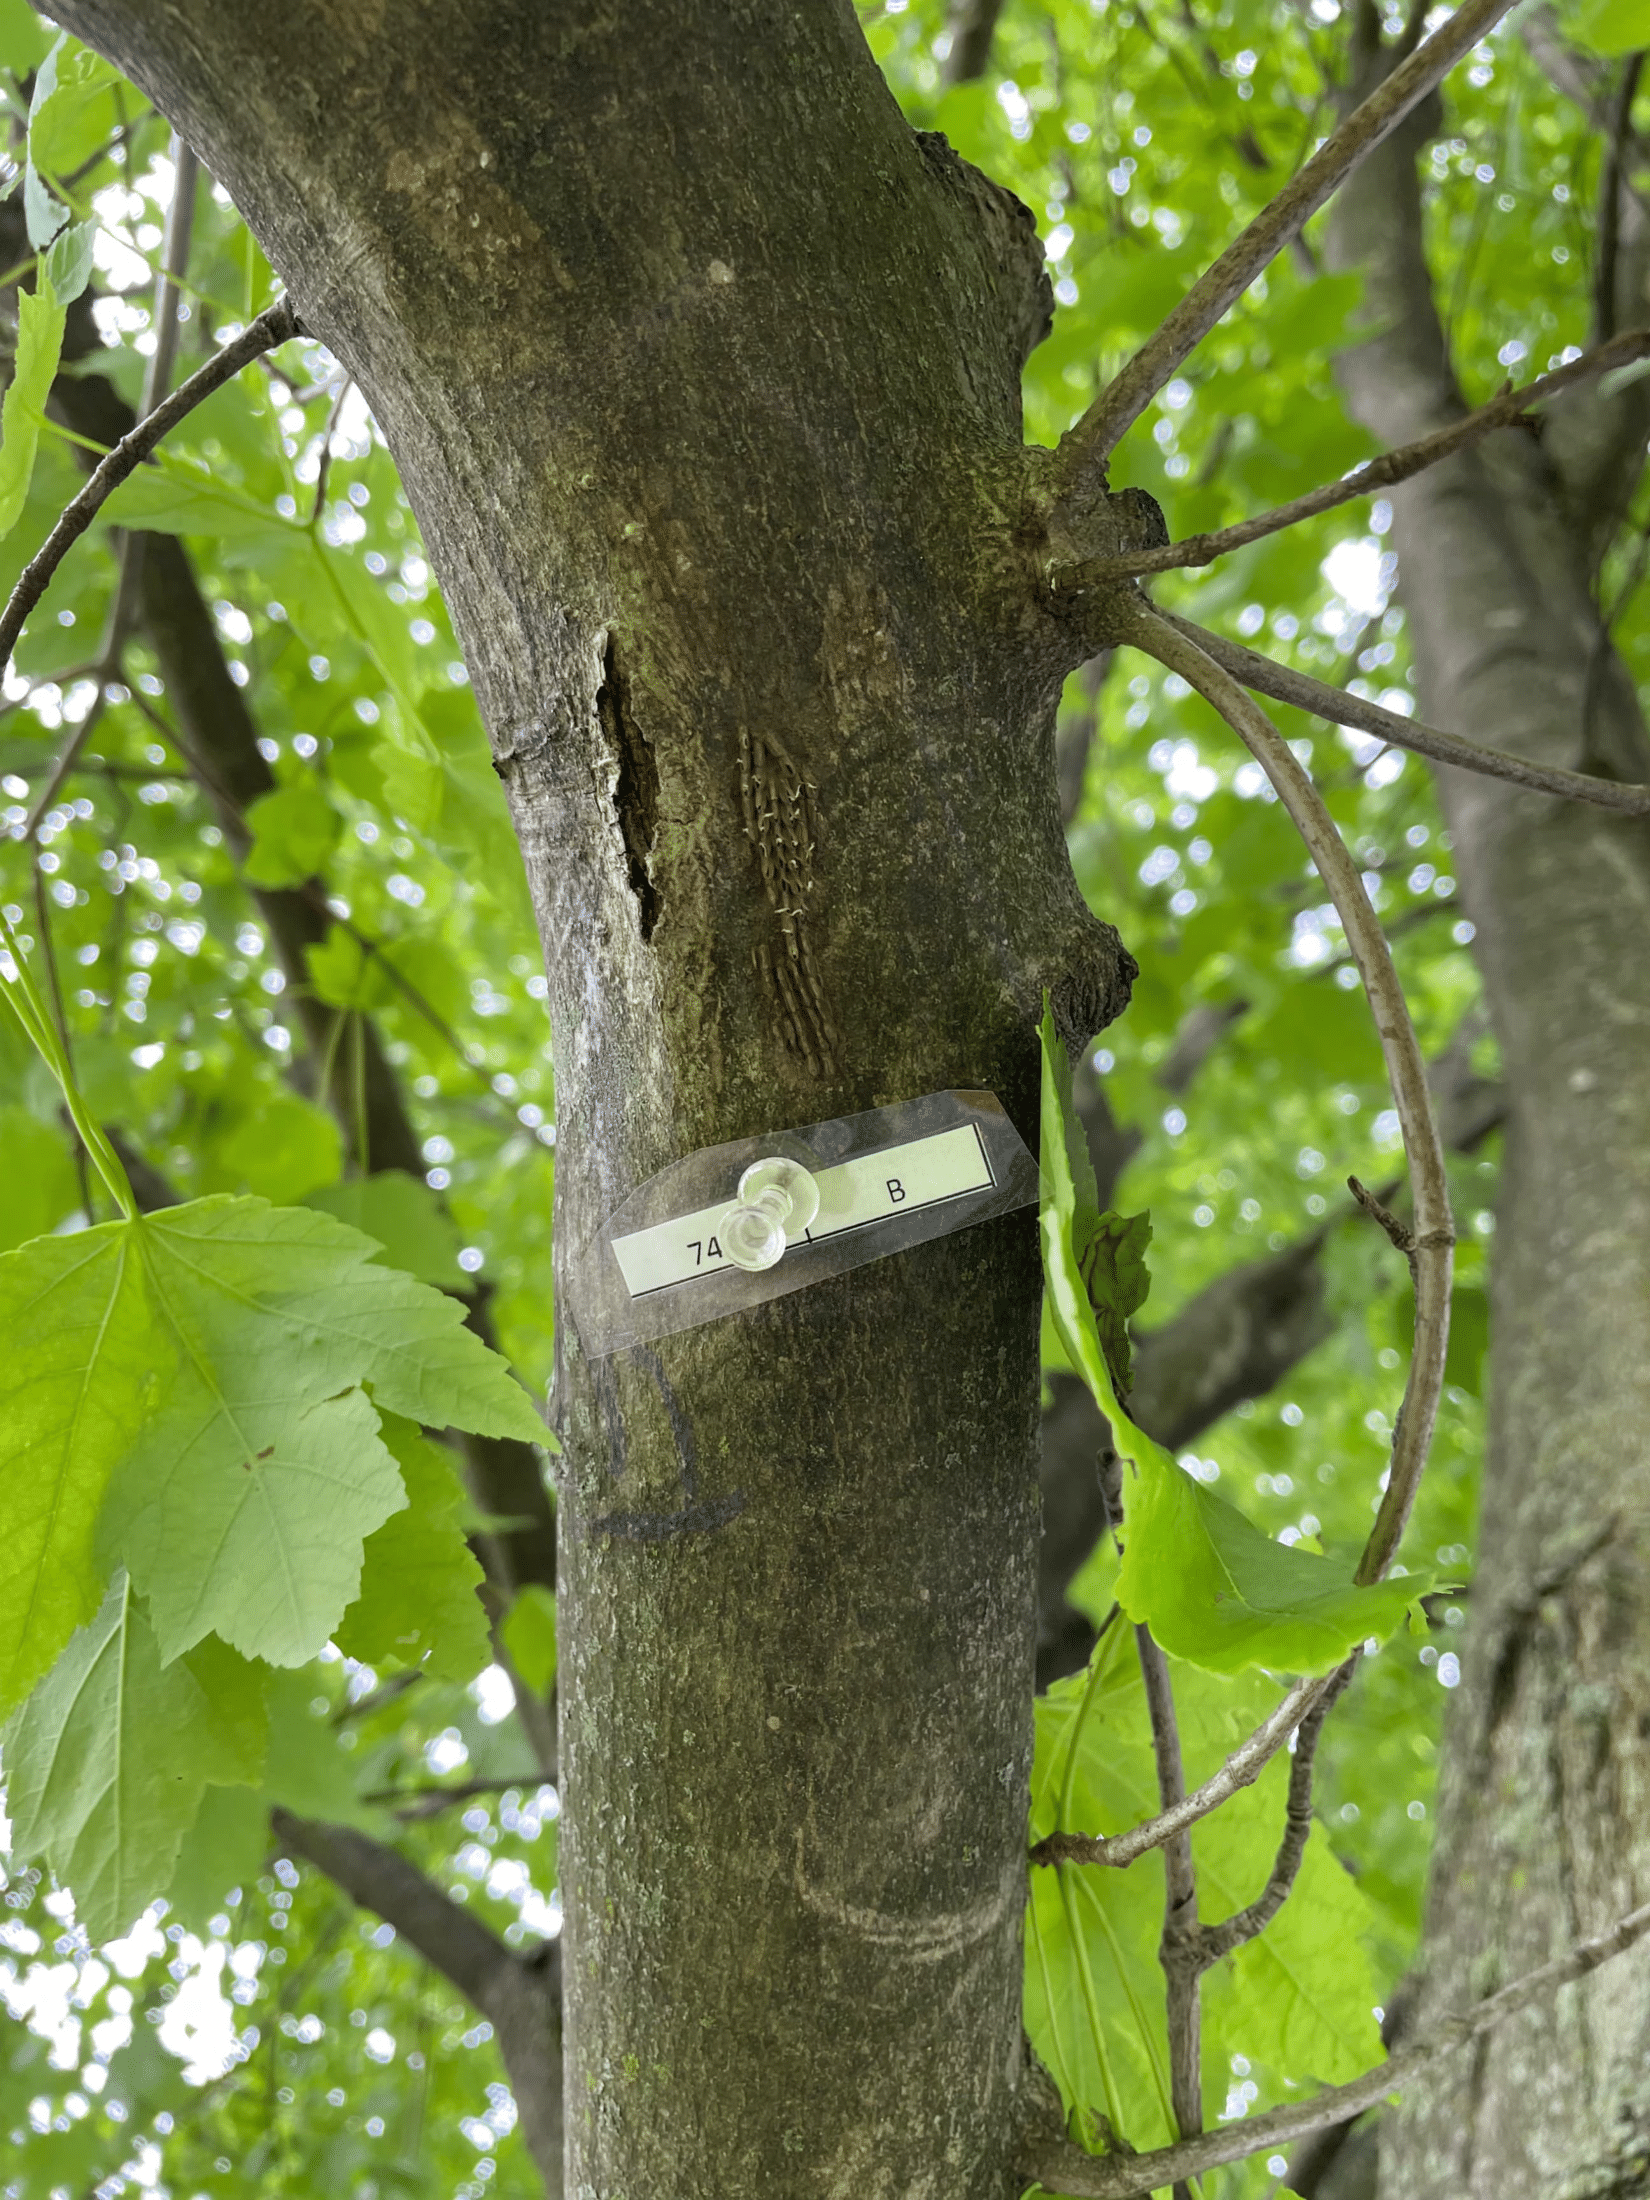egg masses: (705, 670, 877, 1128)
